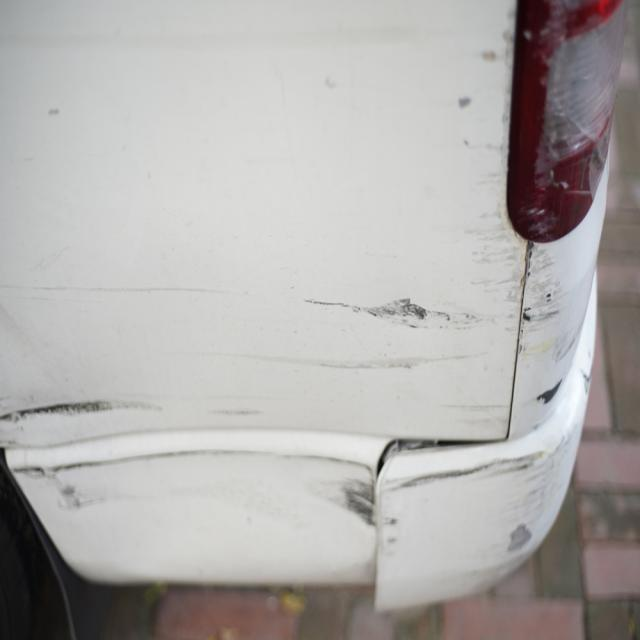scratch: (0, 0, 530, 543), (387, 243, 588, 586)
